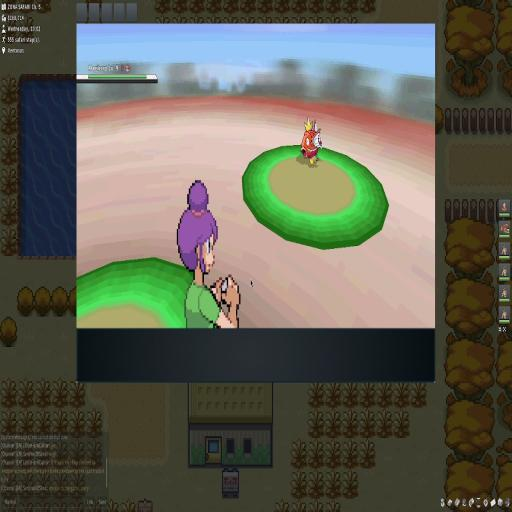MAGIKARP: (301, 116, 323, 167)
